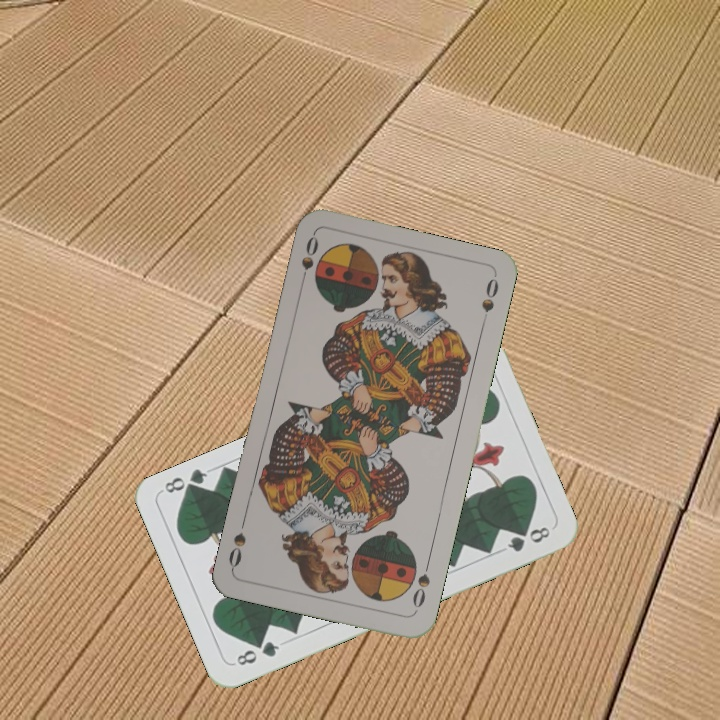G8: (232, 637, 282, 669)
SO: (408, 556, 433, 615), (296, 232, 321, 290)
